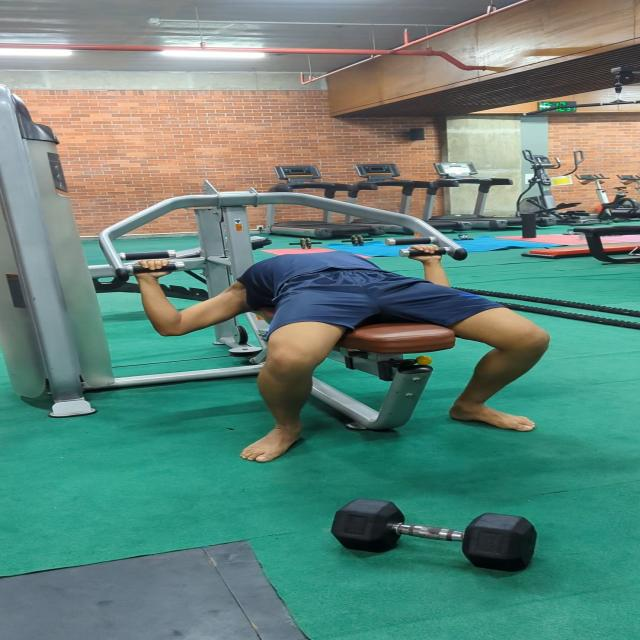Normal_BrenchPress: (103, 175, 586, 469)
